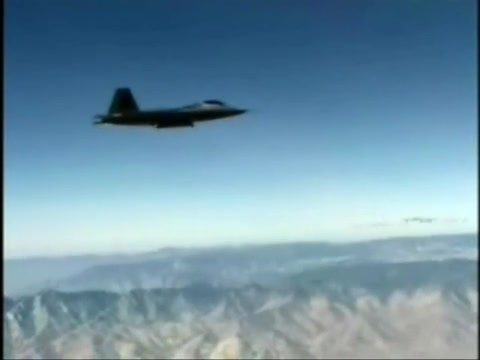aeroplane: (93, 87, 251, 130)
